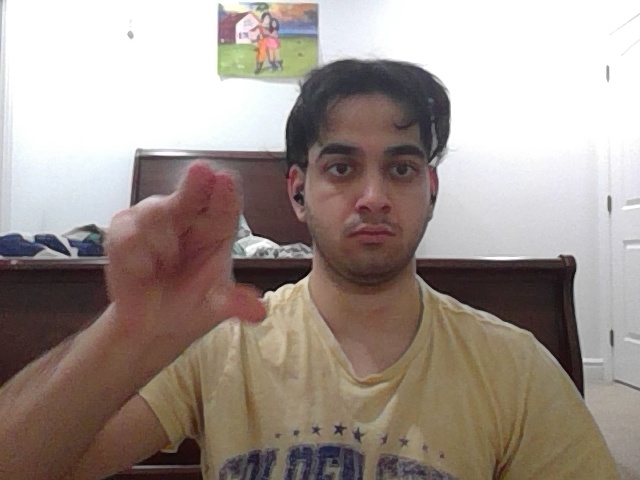No: (105, 163, 268, 342)
